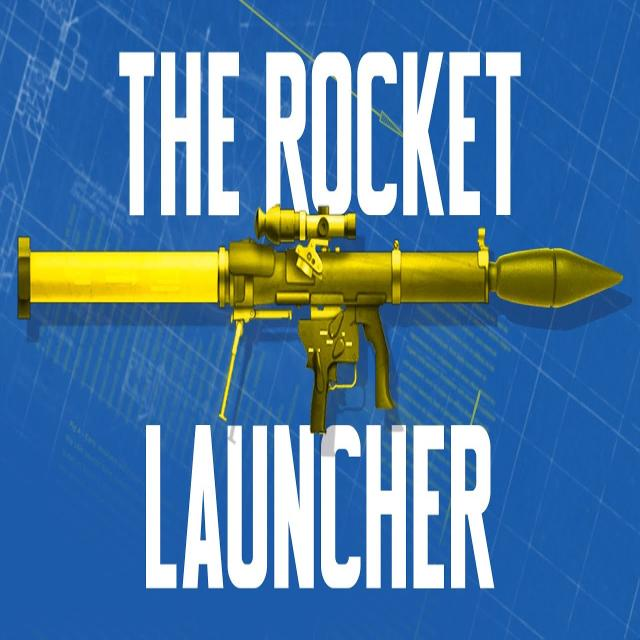bazooka: (6, 190, 628, 432)
